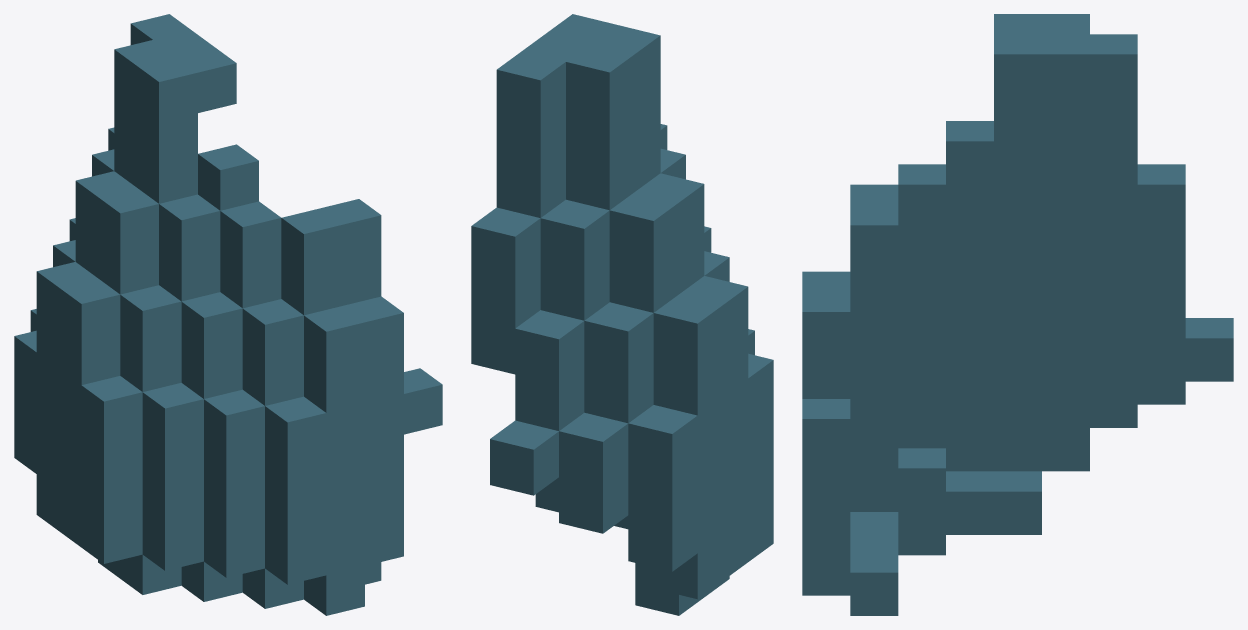
The model's file is vase-4-2.obj.
3 renders of one model, left to right at view 1: azimuth 30°, elevation 25°; view 2: azimuth 150°, elevation 25°; view 3: azimuth 270°, elevation 25°, orthographic. The views are drawn at different scales.
Parts seen in each view (by area): view 1: 2; view 2: 2; view 3: 2.
Boxes of the visible parts, <box> form: 2: <box>14,14,442,615</box>; 2: <box>471,14,773,615</box>; 2: <box>802,14,1233,615</box>.
Bounding box in the file's own units: 0.7 × 1.2 × 0.9.
1 material, 1 textured.
